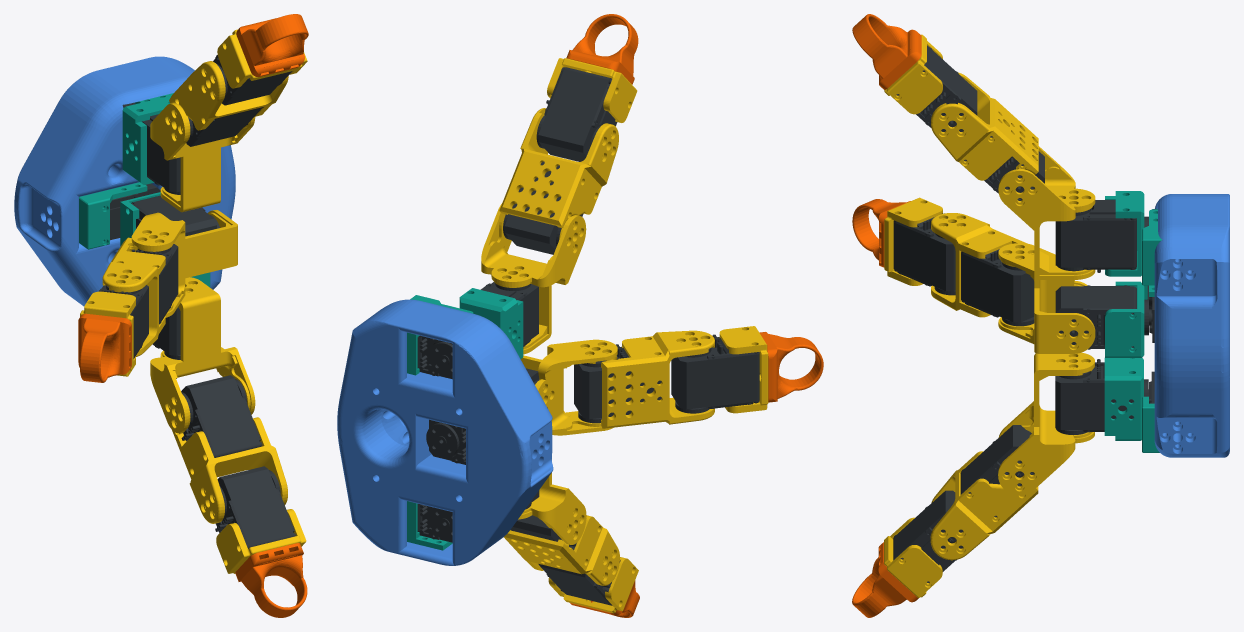
The model's file is dexremo_leader.glb.
3 views of the same model, side by side, from view 1: azimuth 30°, elevation 25°; view 2: azimuth 150°, elevation 25°; view 3: azimuth 270°, elevation 25° (orthographic).
Parts seen in each view (by area): view 1: Finger link, Palm, Servo, Finger ring, Joint bracket; view 2: Palm, Finger link, Servo, Finger ring, Joint bracket; view 3: Finger link, Servo, Palm, Joint bracket, Finger ring.
Part boxes in pixels (box(x1,y1,x2,y2)): Finger link: box(80, 29, 307, 573); Palm: box(14, 56, 235, 306); Servo: box(98, 55, 295, 548); Finger ring: box(78, 14, 308, 617); Joint bracket: box(79, 93, 210, 287); Palm: box(337, 299, 553, 565); Finger link: box(481, 58, 768, 613); Servo: box(417, 67, 759, 605); Finger ring: box(566, 14, 823, 617); Joint bracket: box(407, 288, 523, 550); Finger link: box(884, 34, 1095, 597); Servo: box(893, 45, 1157, 582); Palm: box(1154, 194, 1229, 457); Joint bracket: box(1104, 191, 1161, 452); Finger ring: box(852, 14, 921, 617).
Bounding box in the file's own units: 0.1964 × 0.3677 × 0.2104.
